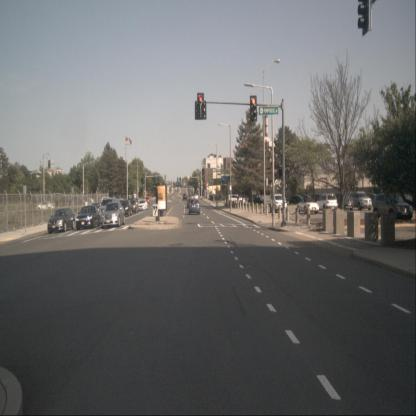vehicle-car: (372, 191, 413, 221), (47, 207, 76, 234), (99, 201, 126, 229), (76, 205, 101, 231), (315, 192, 338, 214), (348, 190, 372, 211), (99, 196, 118, 221), (297, 197, 320, 214), (269, 194, 287, 213), (120, 199, 132, 217), (188, 198, 200, 215), (228, 193, 245, 205), (248, 193, 265, 204), (298, 193, 315, 204), (288, 194, 306, 204), (128, 199, 139, 214), (36, 201, 54, 210), (138, 199, 148, 211), (112, 196, 124, 204), (186, 198, 194, 208), (145, 196, 151, 204), (182, 192, 187, 200)
vehicle-truck: (330, 191, 354, 211)
